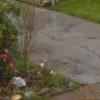Tree: (1, 1, 48, 59)
